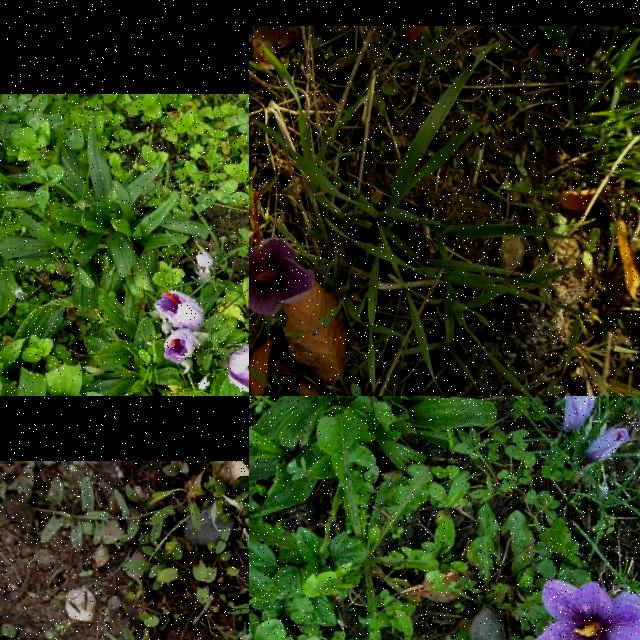flower: (249, 191, 314, 319), (532, 578, 640, 640), (154, 291, 202, 327), (586, 428, 632, 460), (164, 329, 196, 365), (228, 346, 249, 393), (195, 250, 213, 268)
overlap: (549, 396, 596, 435)
